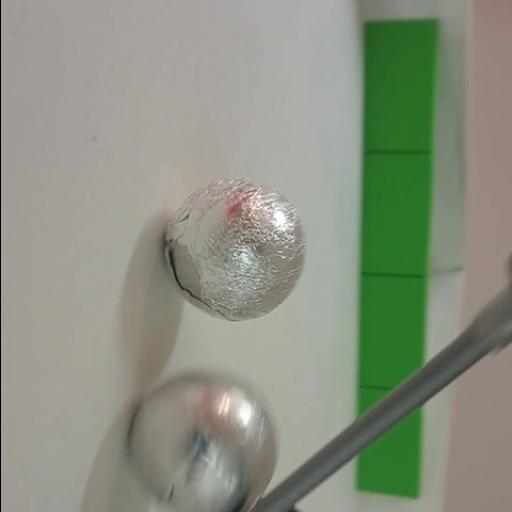alive: (126, 367, 278, 509), (163, 178, 306, 322)
